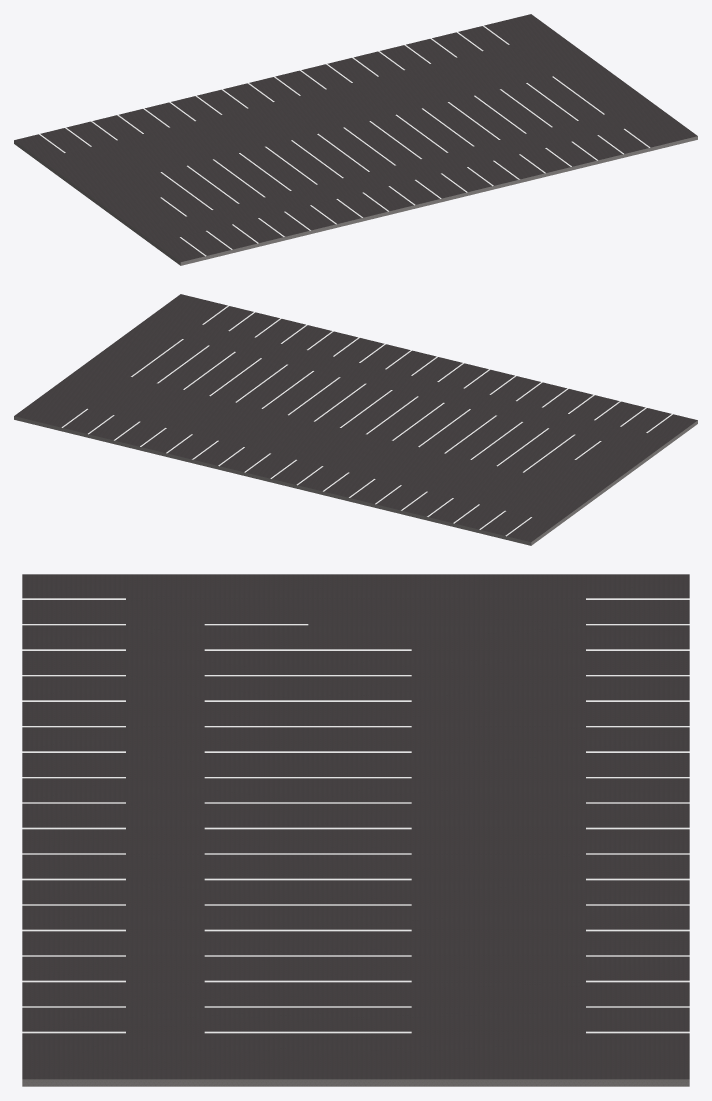
3 views of the same model, one above another, from view 1: azimuth 30°, elevation 25°; view 2: azimuth 150°, elevation 25°; view 3: azimuth 270°, elevation 25° (orthographic). The views are drawn at different scales.
Visible parts, largest first — view 1: SketchUp (×27); view 2: SketchUp (×27); view 3: SketchUp (×27).
Boxes of the visible parts, bbox=[...] form: SketchUp (×27): bbox=[14, 14, 697, 265]; SketchUp (×27): bbox=[14, 294, 697, 545]; SketchUp (×27): bbox=[22, 574, 689, 1086].
Size of the model in its own units: 2935 by 1639 by 19.69.
Materials: 4 (3 with a texture image).
